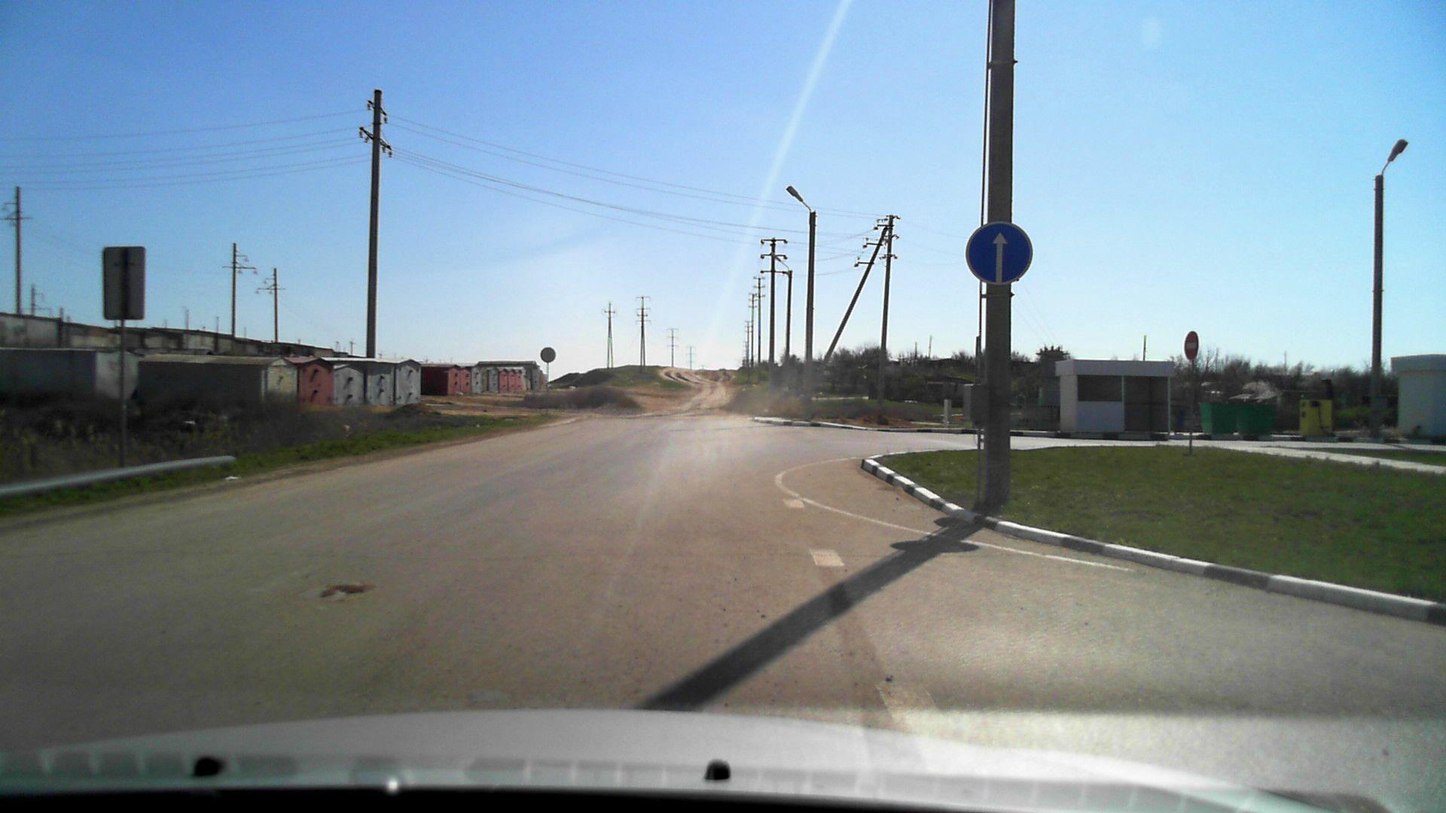road_sign: (962, 219, 1034, 286), (1184, 330, 1200, 361)
